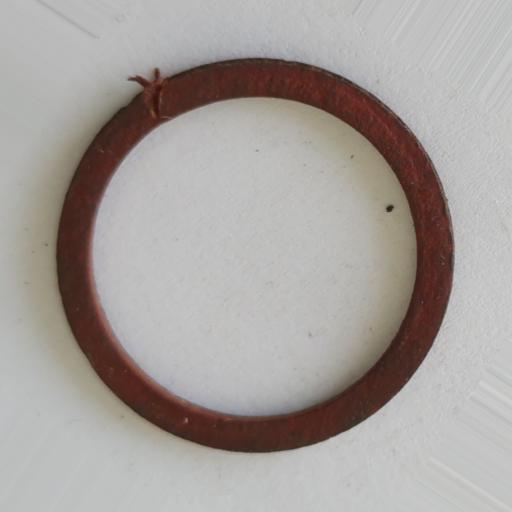defect: (129, 67, 171, 124)
